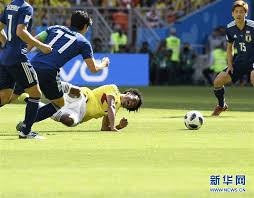10+: (1, 1, 253, 143)
down: (48, 83, 144, 131)
